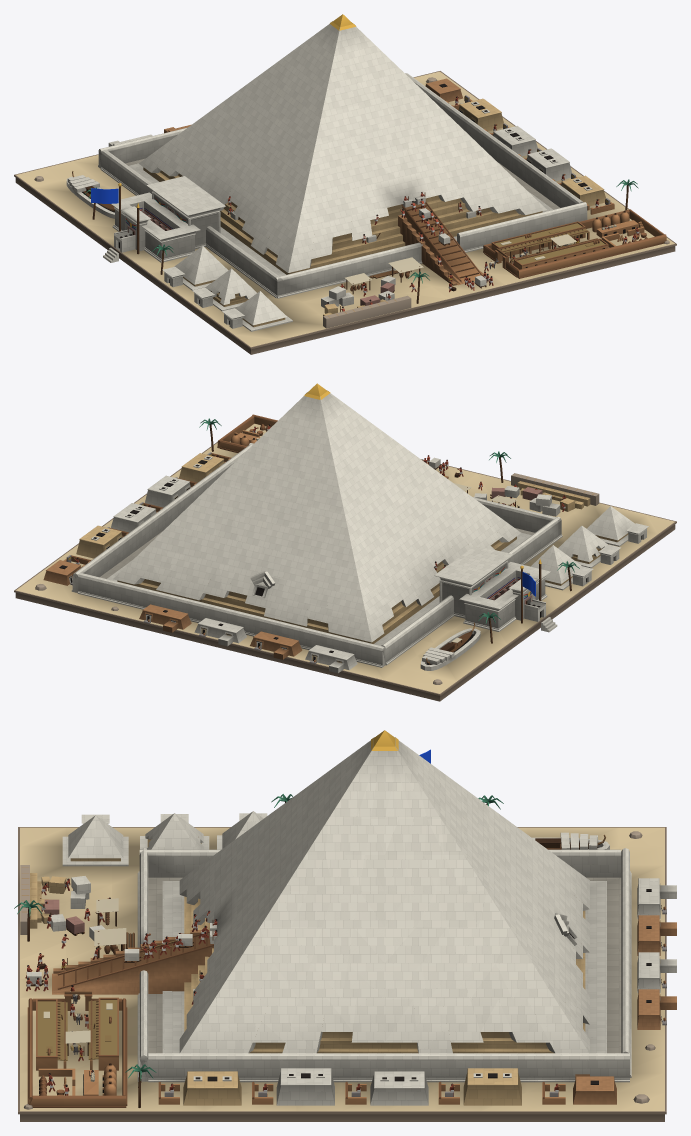
Rendered from lm_piramit.glb.
3 views of the same model, one above another, from view 1: azimuth 30°, elevation 25°; view 2: azimuth 150°, elevation 25°; view 3: azimuth 270°, elevation 25° (orthographic). The views are drawn at different scales.
Parts seen in each view (by area): view 1: lm_piramit; view 2: lm_piramit; view 3: lm_piramit.
Part boxes in pixels (<box>): lm_piramit: <box>14,14,676,354</box>; lm_piramit: <box>14,383,676,701</box>; lm_piramit: <box>14,730,676,1121</box>.
Size of the model in its own units: 2.4 by 0.9773 by 2.27.
Materials: 1 (1 with a texture image).
